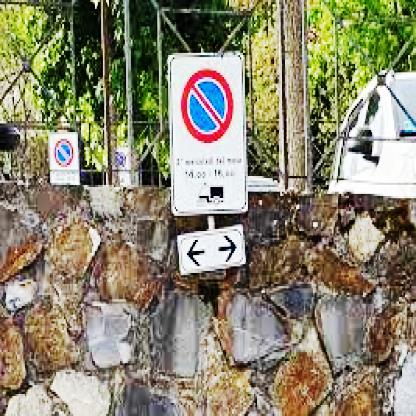No parking: (184, 71, 236, 141), (53, 137, 77, 171)
